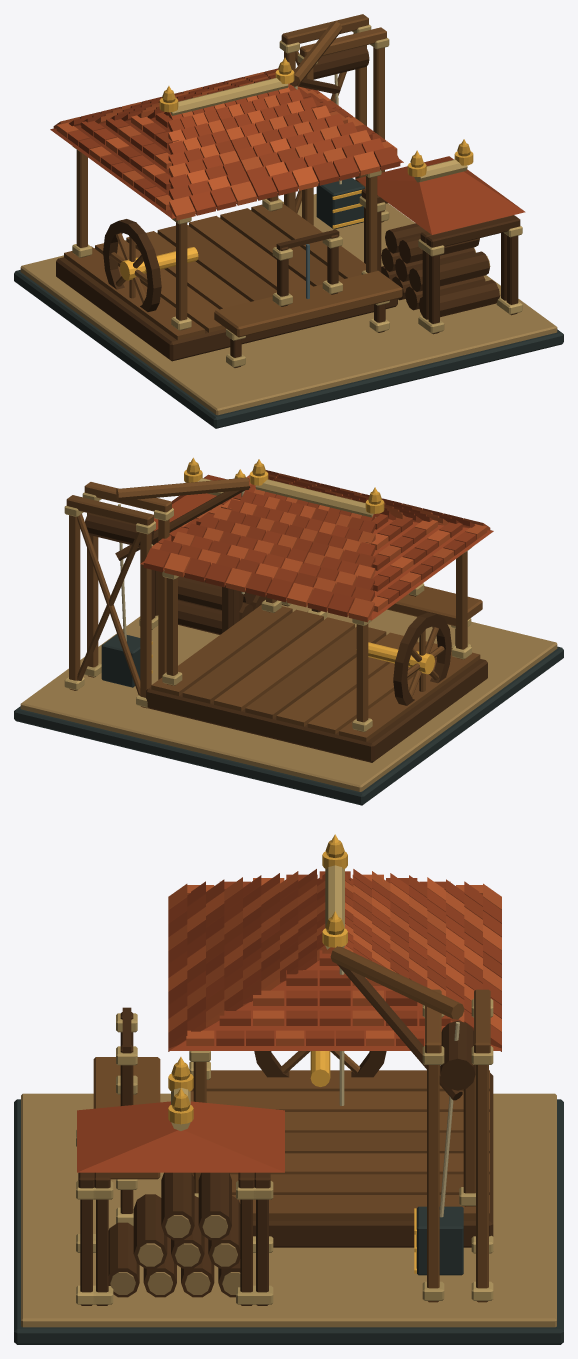
3 renders of one model, top to bottom at view 1: azimuth 30°, elevation 25°; view 2: azimuth 150°, elevation 25°; view 3: azimuth 270°, elevation 25°, orthographic. The views are drawn at different scales.
Visible parts, largest first — view 1: lumber_7_structure, lumber_7_metal; view 2: lumber_7_structure, lumber_7_metal; view 3: lumber_7_structure, lumber_7_metal.
Boxes of the visible parts, x1,y1,x2,y2 form: lumber_7_structure: (14, 14, 563, 428); lumber_7_metal: (120, 57, 473, 280); lumber_7_structure: (14, 462, 563, 805); lumber_7_metal: (151, 457, 434, 674); lumber_7_structure: (14, 840, 563, 1344); lumber_7_metal: (168, 834, 416, 1273).
Size of the model in its own units: 5.6 by 3.68 by 5.6.
